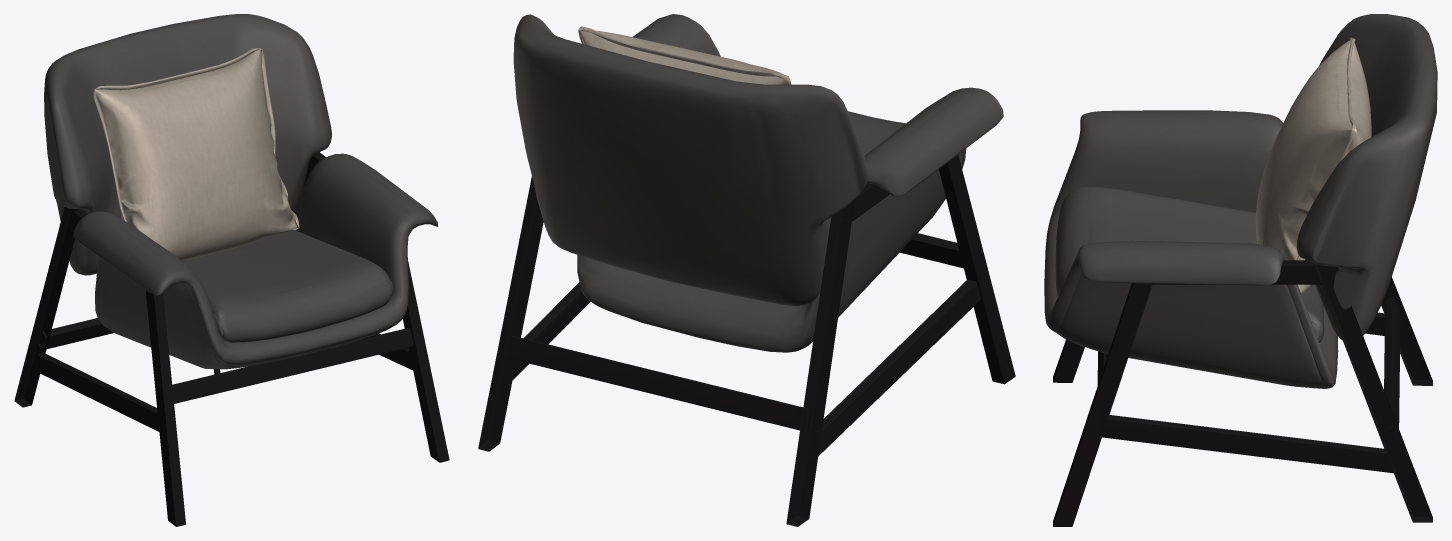
File: raw_model.obj
3 views of the same model, side by side, from view 1: azimuth 30°, elevation 25°; view 2: azimuth 150°, elevation 25°; view 3: azimuth 270°, elevation 25° (orthographic). The views are drawn at different scales.
Parts seen in each view (by area): view 1: solid_002, solid_001, solid_003; view 2: solid_002, solid_003, solid_001; view 3: solid_002, solid_003, solid_001.
Boxes of the visible parts, x1,y1,x2,y2 form: solid_002: (44,14,437,369); solid_001: (93,48,299,261); solid_003: (14,152,449,526); solid_002: (513,14,1003,352); solid_003: (478,155,1015,526); solid_001: (578,26,791,84); solid_002: (1044,14,1437,388); solid_003: (1053,260,1432,526); solid_001: (1255,37,1371,294).
Size of the model in its own units: 0.8208 by 0.9415 by 0.8735.
1 material, 1 textured.
